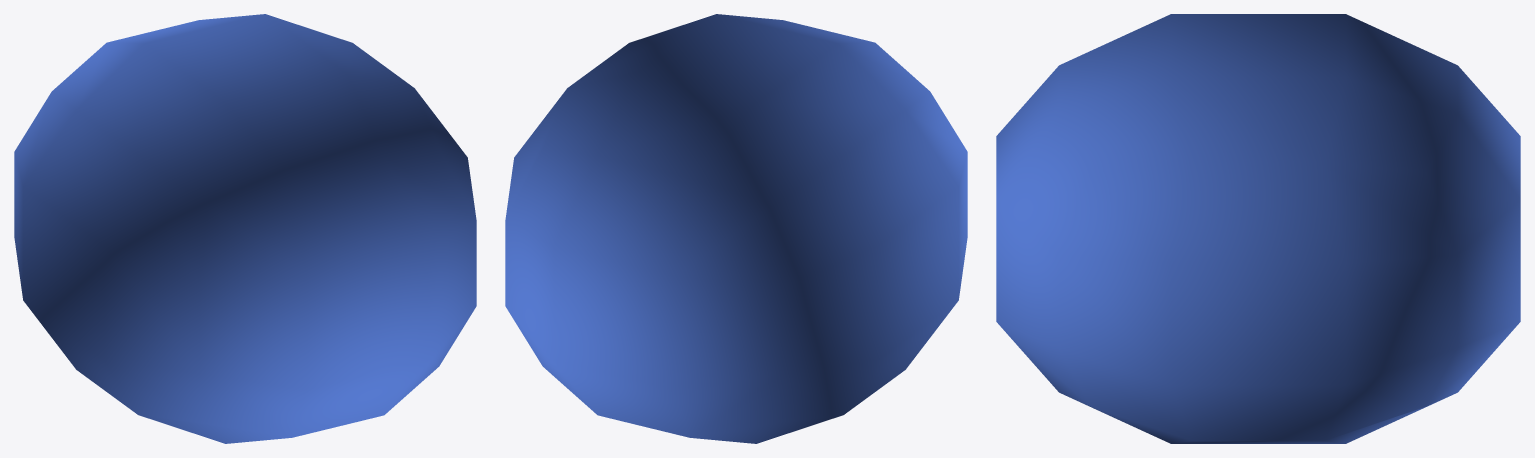
The model's file is Spring_Cartoon_Nose.obj.
3 views of the same model, side by side, from view 1: azimuth 30°, elevation 25°; view 2: azimuth 150°, elevation 25°; view 3: azimuth 270°, elevation 25° (orthographic). The views are drawn at different scales.
Visible parts, largest first — view 1: Mesh; view 2: Mesh; view 3: Mesh.
Boxes of the visible parts, x1,y1,x2,y2 form: Mesh: (14, 14, 476, 443); Mesh: (505, 14, 967, 443); Mesh: (996, 14, 1520, 443).
Size of the model in its own units: 0.6571 by 0.5891 by 0.7637.
